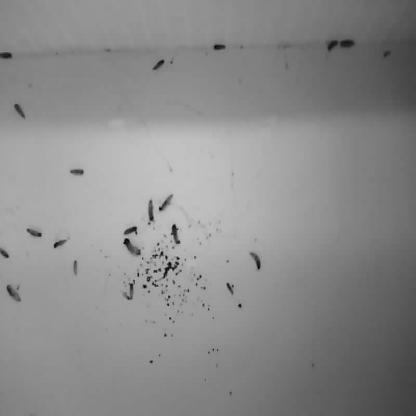PtecticusTenebrifer: (6, 282, 22, 304), (123, 239, 141, 257), (158, 193, 173, 213), (14, 102, 27, 124), (249, 251, 262, 272), (26, 227, 43, 240), (171, 223, 180, 245), (151, 59, 166, 71), (123, 225, 138, 236), (147, 200, 154, 223), (340, 39, 356, 49), (54, 238, 68, 249), (70, 167, 84, 178), (328, 40, 339, 53), (73, 258, 79, 280), (0, 50, 11, 61), (214, 44, 228, 52), (128, 282, 134, 300)
